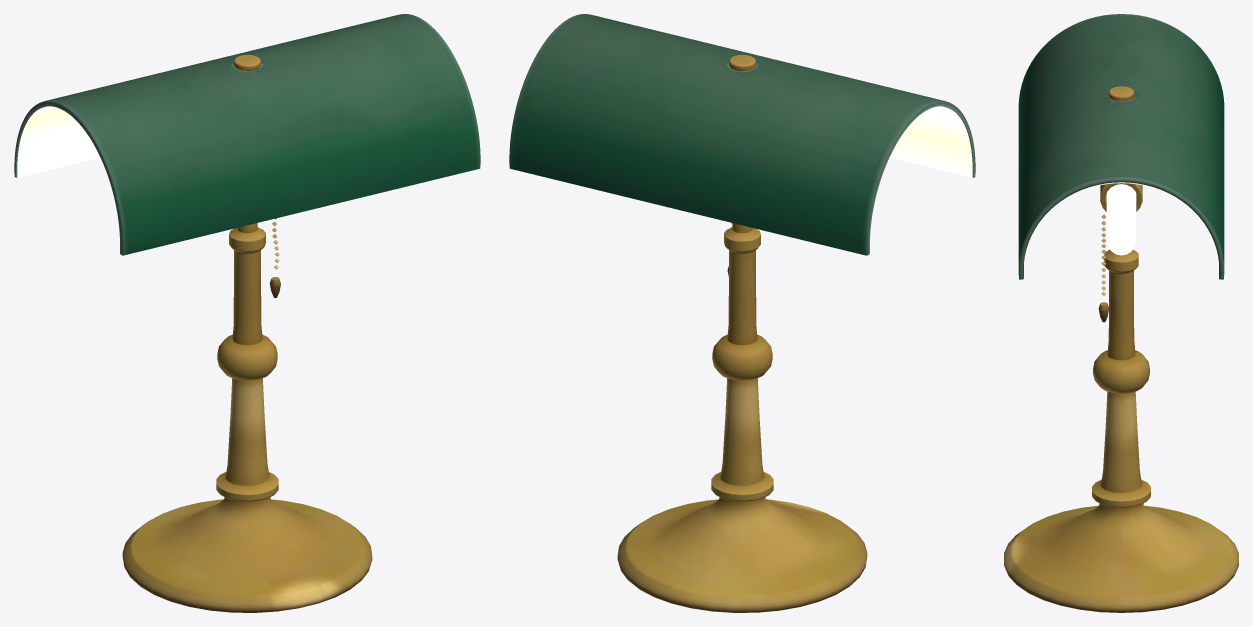
File: banker-lamp.glb
3 views of the same model, side by side, from view 1: azimuth 30°, elevation 25°; view 2: azimuth 150°, elevation 25°; view 3: azimuth 270°, elevation 25° (orthographic). The views are drawn at different scales.
Parts seen in each view (by area): view 1: lamp_body, shade_glow; view 2: lamp_body, shade_glow; view 3: lamp_body, bulb, shade_glow.
Part boxes in pixels (x1,y1,x2,y2): lamp_body: (14,14,480,612); shade_glow: (17,106,100,177); lamp_body: (509,14,975,612); shade_glow: (889,106,972,177); lamp_body: (1004,14,1238,612); bulb: (1106,184,1136,255); shade_glow: (1024,182,1218,272).
Size of the model in its own units: 0.3 by 0.4016 by 0.1802.
Materials: 3 (1 with a texture image).
